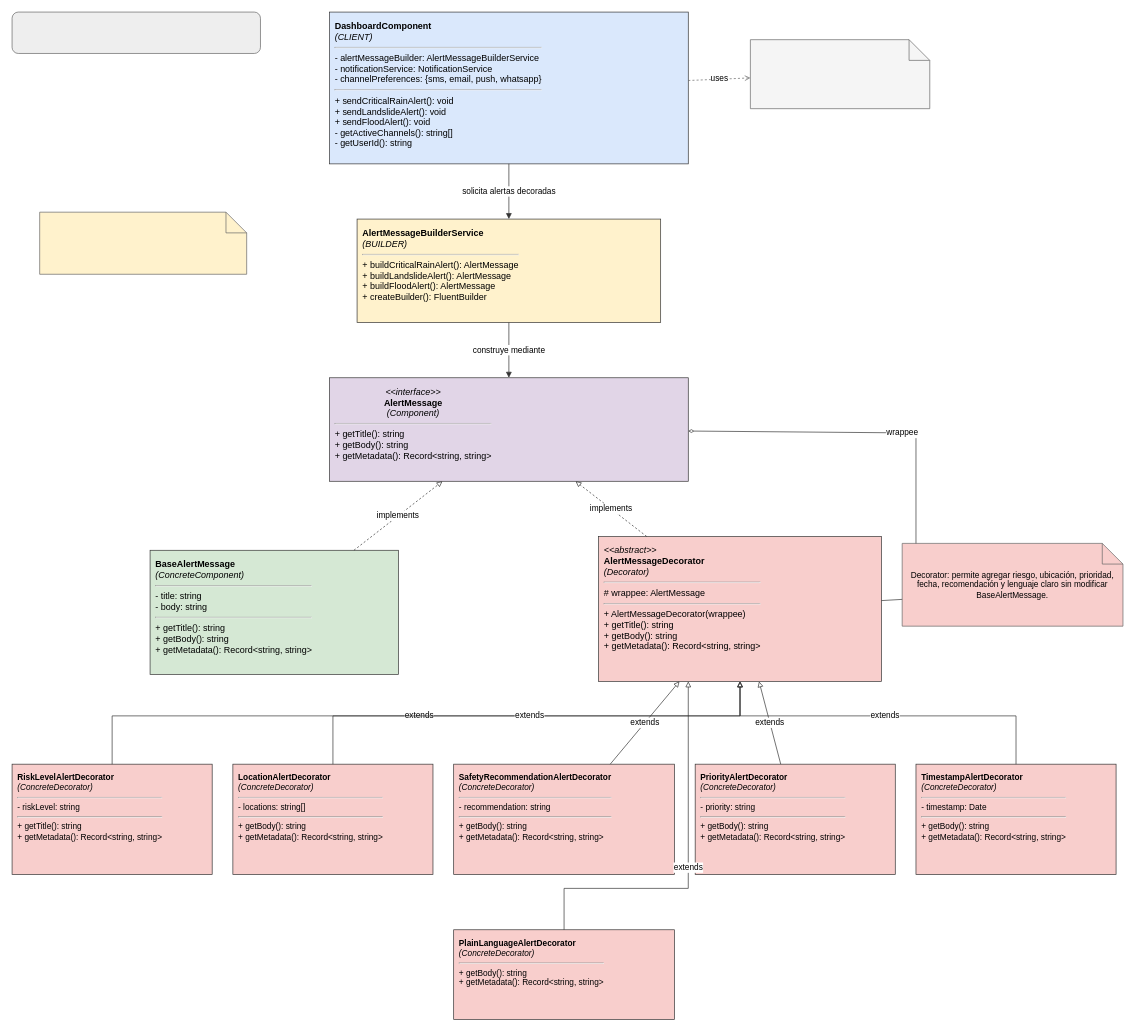
The diagram is 1135 pixels wide and 1032 high, and some of its shapes have lost their labels. The shapes that lost their labels are listed below. From the top down, each one's centre as x and y in pixels, then its label:
At (x=135, y=32): "Patrones aplicados: Builder + Decorator".
At (x=840, y=74): "usa NotificationService para enviar por canales activos".
At (x=143, y=242): "Builder: encapsula la construcción de mensajes de alerta preconfigurados.".
